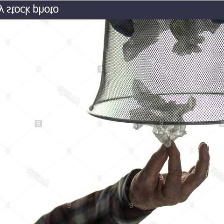tissue: (122, 75, 200, 151), (163, 19, 224, 62), (118, 20, 166, 66)
